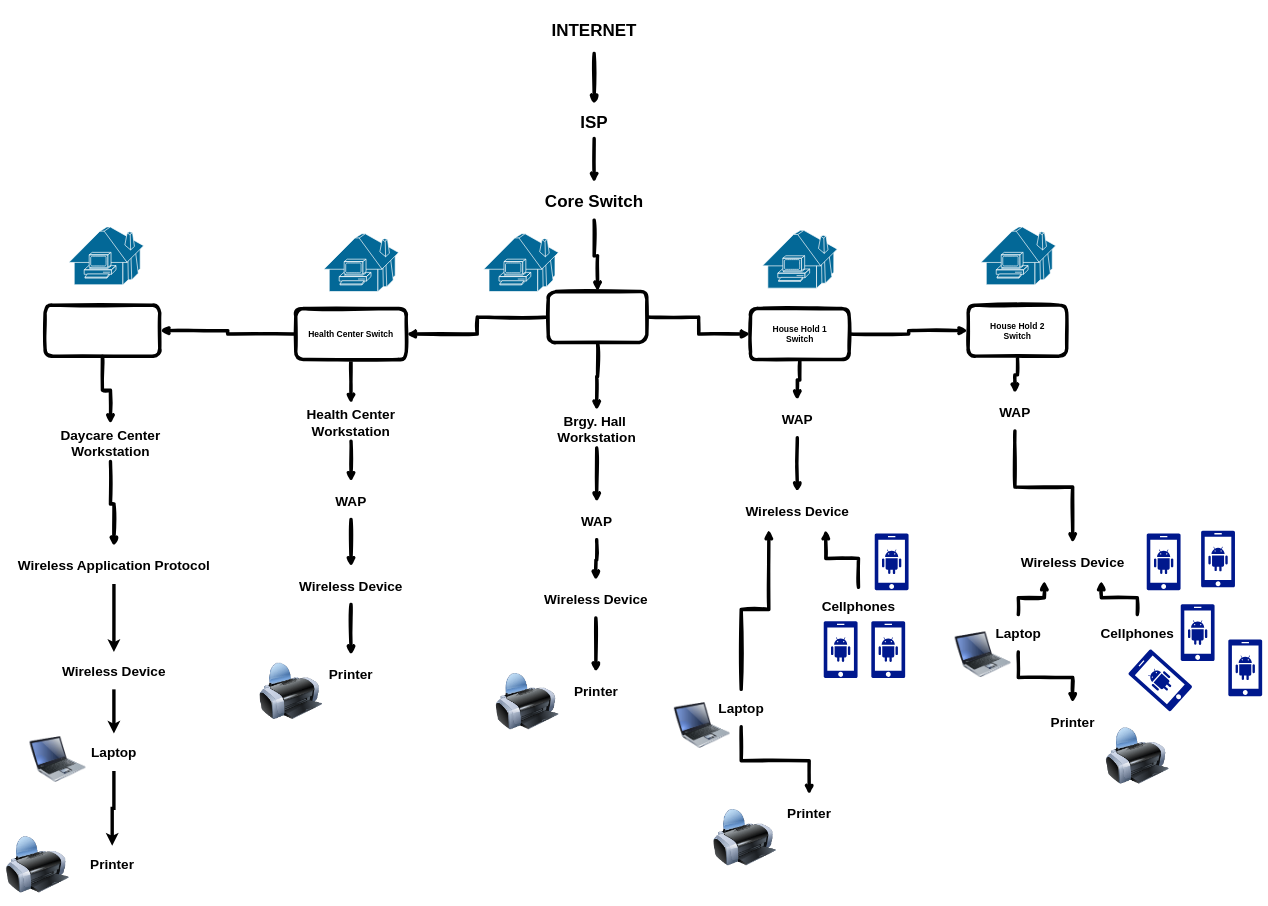
The diagram is 1268 pixels wide and 906 high, and some of its shapes have lost their labels. The box of each missing label's shape, as (x1, y1, x2, y2) in pixels:
Brgy. Hall Switch: (546, 290, 648, 344)
Daycare Center Switch: (43, 303, 161, 358)
